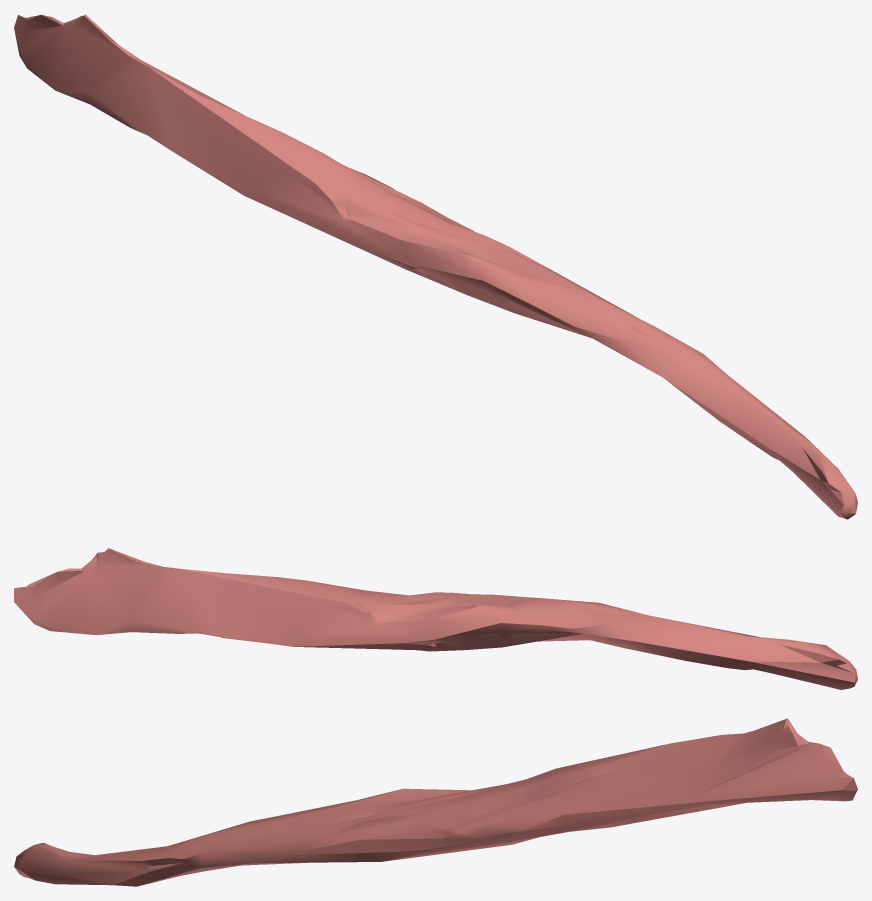
File: fma37743_fj1386.glb
3 renders of one model, top to bottom at view 1: azimuth 90°, elevation 25°; view 2: azimuth 150°, elevation 25°; view 3: azimuth 270°, elevation 25°, orthographic.
Parts seen in each view (by area): view 1: FMA37743_FJ1386; view 2: FMA37743_FJ1386; view 3: FMA37743_FJ1386.
Boxes of the visible parts, <box> form: FMA37743_FJ1386: <box>14,14,857,519</box>; FMA37743_FJ1386: <box>14,548,857,689</box>; FMA37743_FJ1386: <box>14,718,857,886</box>.
Size of the model in its own units: 0.0273 by 0.0203 by 0.0468.
